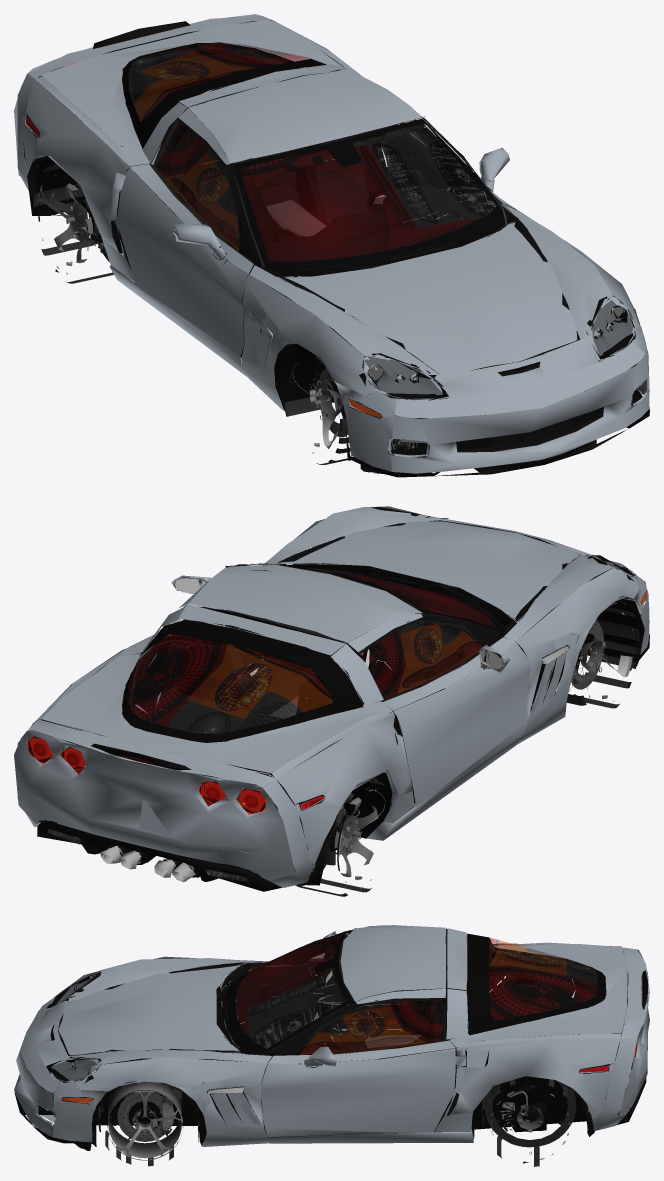
Rendered from muscle-car.glb.
3 views of the same model, one above another, from view 1: azimuth 30°, elevation 25°; view 2: azimuth 150°, elevation 25°; view 3: azimuth 270°, elevation 25° (orthographic). The views are drawn at different scales.
Visible parts, largest first — view 1: Body, WheelRL, WheelFL; view 2: Body, WheelFL, WheelRL; view 3: Body, WheelFR, WheelRR.
Boxes of the visible parts, x1,y1,x2,y2 form: Body: (14, 14, 649, 477); WheelRL: (33, 163, 127, 283); WheelFL: (284, 346, 382, 464); Body: (14, 506, 649, 891); WheelFL: (554, 600, 639, 708); WheelRL: (296, 778, 392, 896); Body: (14, 925, 649, 1150); WheelFR: (98, 1081, 183, 1166); WheelRR: (482, 1079, 576, 1166).
Bounding box in the file's own units: 2.1 × 1.22 × 4.46.
23 materials, 16 textured.
